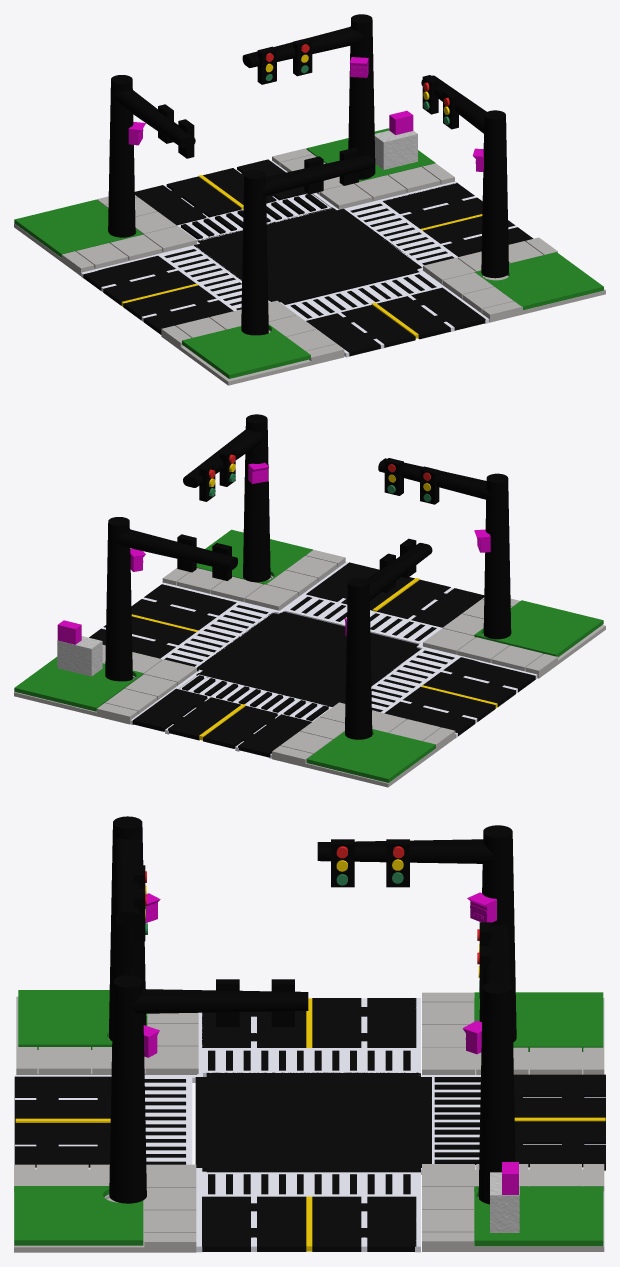
The model's file is intersection complete.glb.
The picture shows the model from 3 angles, top to bottom: view 1: azimuth 30°, elevation 25°; view 2: azimuth 150°, elevation 25°; view 3: azimuth 270°, elevation 25°; orthographic projection. The views are drawn at different scales.
Visible parts, largest first — view 1: Solid1 (×23); view 2: Solid1 (×24); view 3: Solid1 (×24).
Boxes of the visible parts, x1,y1,x2,y2 form: Solid1 (×23): (14, 14, 605, 385); Solid1 (×24): (14, 414, 605, 787); Solid1 (×24): (14, 816, 605, 1252).
Size of the model in its own units: 0.2546 by 0.107 by 0.2544.
Materials: 10 (1 with a texture image).
